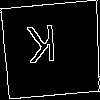K: (26, 24, 58, 73)
